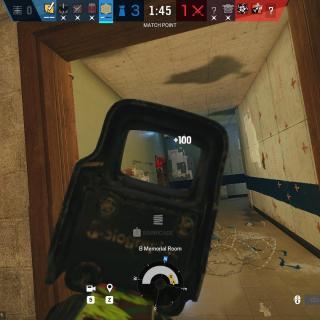Character: (157, 167, 162, 173)
